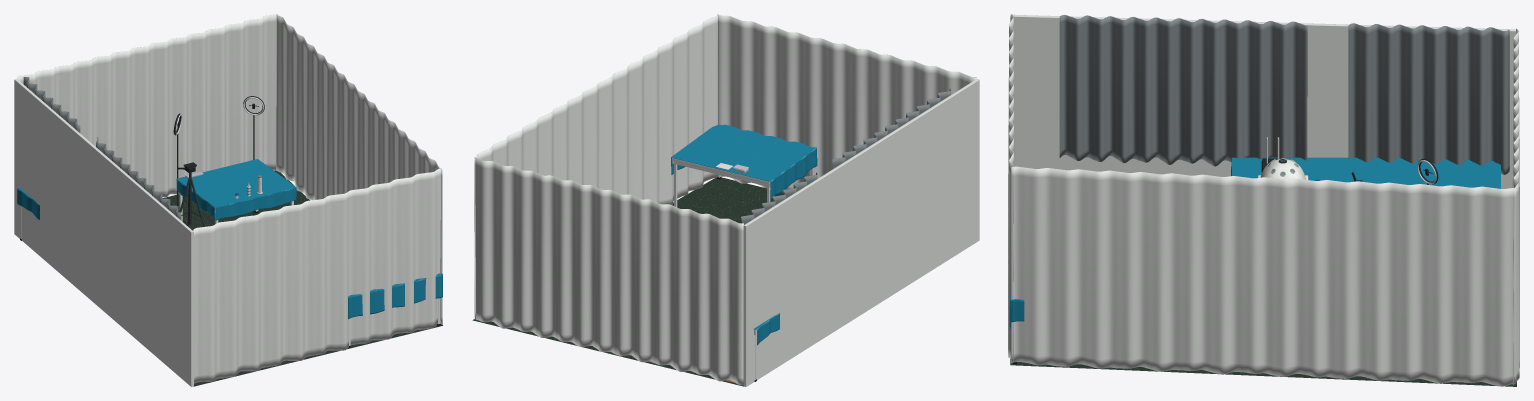
File: room_full_01_clean.glb
3 renders of one model, left to right at view 1: azimuth 30°, elevation 25°; view 2: azimuth 150°, elevation 25°; view 3: azimuth 270°, elevation 25°, orthographic. The views are drawn at different scales.
Visible parts, largest first — view 1: Front_white_partition, Left_wall, Rear_white_partition, Right_white_partition, Bottle_worktable_Cover, Continuous_floor, Gauze_worktable_Drape_Front, Bottle_worktable_Drape_Front, Grey_window_curtain, Grey_window_curtain.001, Bottle_worktable_Drape_Left; view 2: Rear_white_partition, Left_wall, Right_white_partition, Front_white_partition, Gauze_worktable_Cover, Continuous_floor, Grey_window_curtain, Gauze_worktable_Drape_Left, Grey_window_curtain.001; view 3: Right_white_partition, Grey_window_curtain, Grey_window_curtain.001, Left_wall, Long_workbench_B_Cover, Long_workbench_A_Cover, Rear_white_partition, Front_white_partition, Continuous_floor, White_domed_device_shell.
Boxes of the visible parts, left/top/right/bottom form: Front_white_partition: left=193, top=168, right=441, bottom=383; Left_wall: left=14, top=79, right=193, bottom=386; Rear_white_partition: left=17, top=14, right=277, bottom=197; Right_white_partition: left=276, top=14, right=442, bottom=324; Bottle_worktable_Cover: left=176, top=159, right=296, bottom=207; Continuous_floor: left=162, top=170, right=442, bottom=386; Gauze_worktable_Drape_Front: left=348, top=274, right=442, bottom=319; Bottle_worktable_Drape_Front: left=215, top=188, right=296, bottom=220; Grey_window_curtain: left=96, top=137, right=181, bottom=220; Grey_window_curtain.001: left=23, top=77, right=80, bottom=132; Bottle_worktable_Drape_Left: left=176, top=180, right=214, bottom=217; Rear_white_partition: left=475, top=157, right=743, bottom=385; Left_wall: left=743, top=79, right=979, bottom=386; Right_white_partition: left=474, top=14, right=718, bottom=319; Front_white_partition: left=717, top=14, right=976, bottom=192; Gauze_worktable_Cover: left=671, top=124, right=816, bottom=181; Continuous_floor: left=472, top=177, right=782, bottom=386; Grey_window_curtain: left=832, top=89, right=950, bottom=169; Gauze_worktable_Drape_Left: left=770, top=148, right=817, bottom=199; Grey_window_curtain.001: left=741, top=172, right=817, bottom=224; Right_white_partition: left=1011, top=166, right=1516, bottom=386; Grey_window_curtain: left=1059, top=15, right=1307, bottom=166; Grey_window_curtain.001: left=1348, top=23, right=1509, bottom=174; Left_wall: left=1010, top=14, right=1516, bottom=188; Long_workbench_B_Cover: left=1366, top=157, right=1500, bottom=188; Long_workbench_A_Cover: left=1231, top=157, right=1366, bottom=182; Rear_white_partition: left=1512, top=28, right=1519, bottom=385; Front_white_partition: left=1008, top=14, right=1014, bottom=361; Continuous_floor: left=1010, top=358, right=1516, bottom=386; White_domed_device_shell: left=1260, top=159, right=1305, bottom=179.
Bounding box in the file's own units: 4.56 × 2.4 × 5.58.
